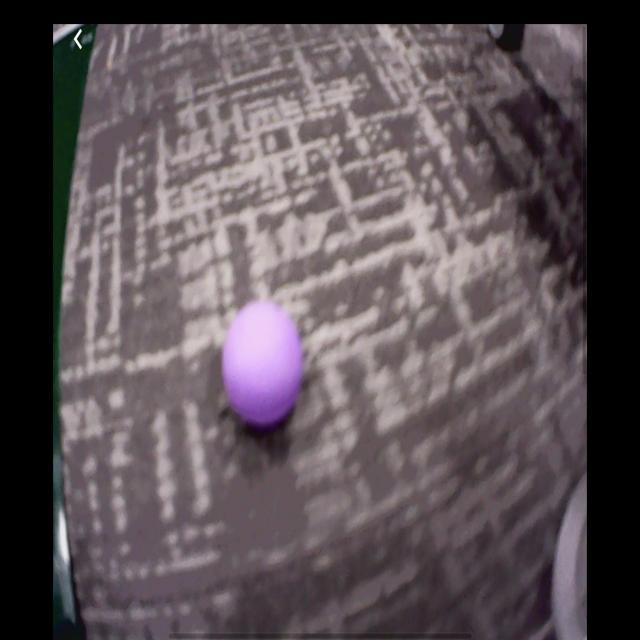ball: (223, 301, 304, 426)
